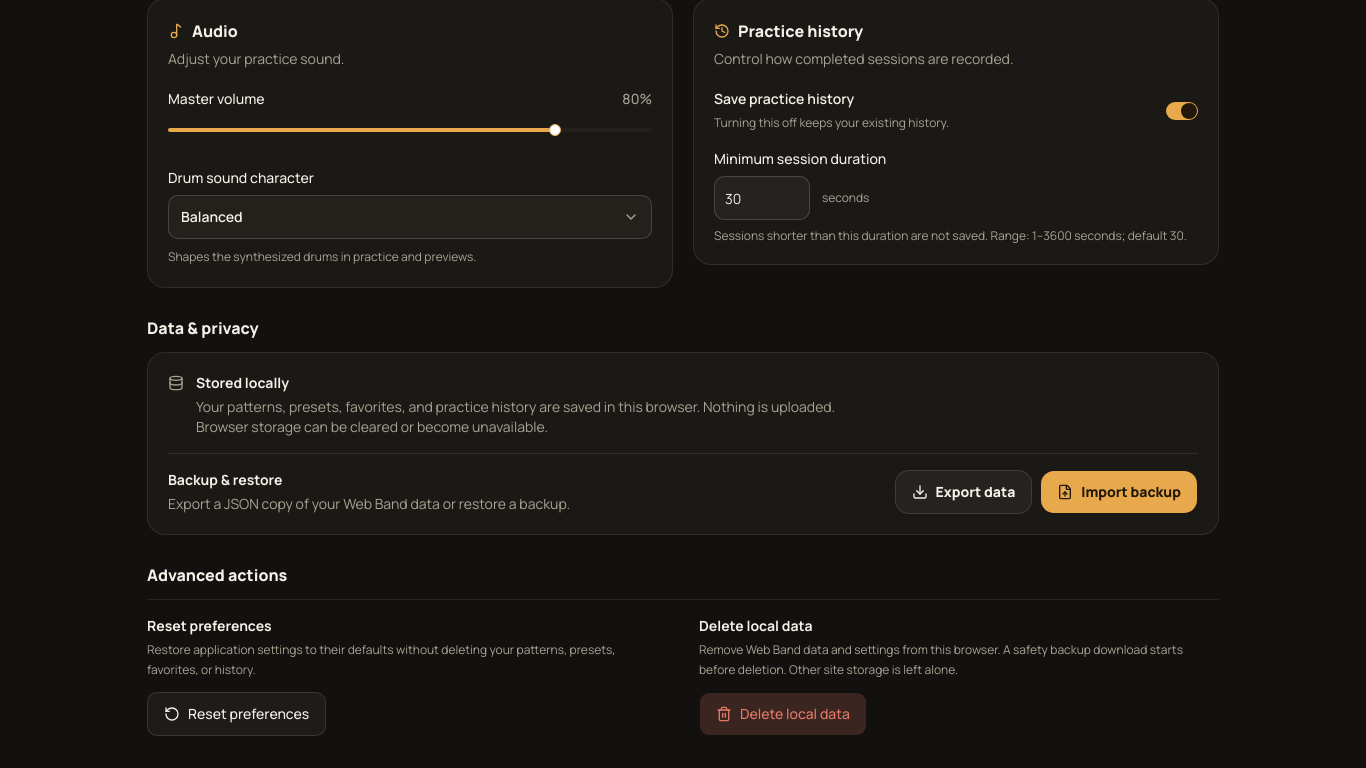
Test: settings screen › resets settings without destructive confirmation
(page scrolled)
Step 1. Click the button "Reset preferences" → (237, 714), box [147, 692, 326, 736]
(page scrolled)
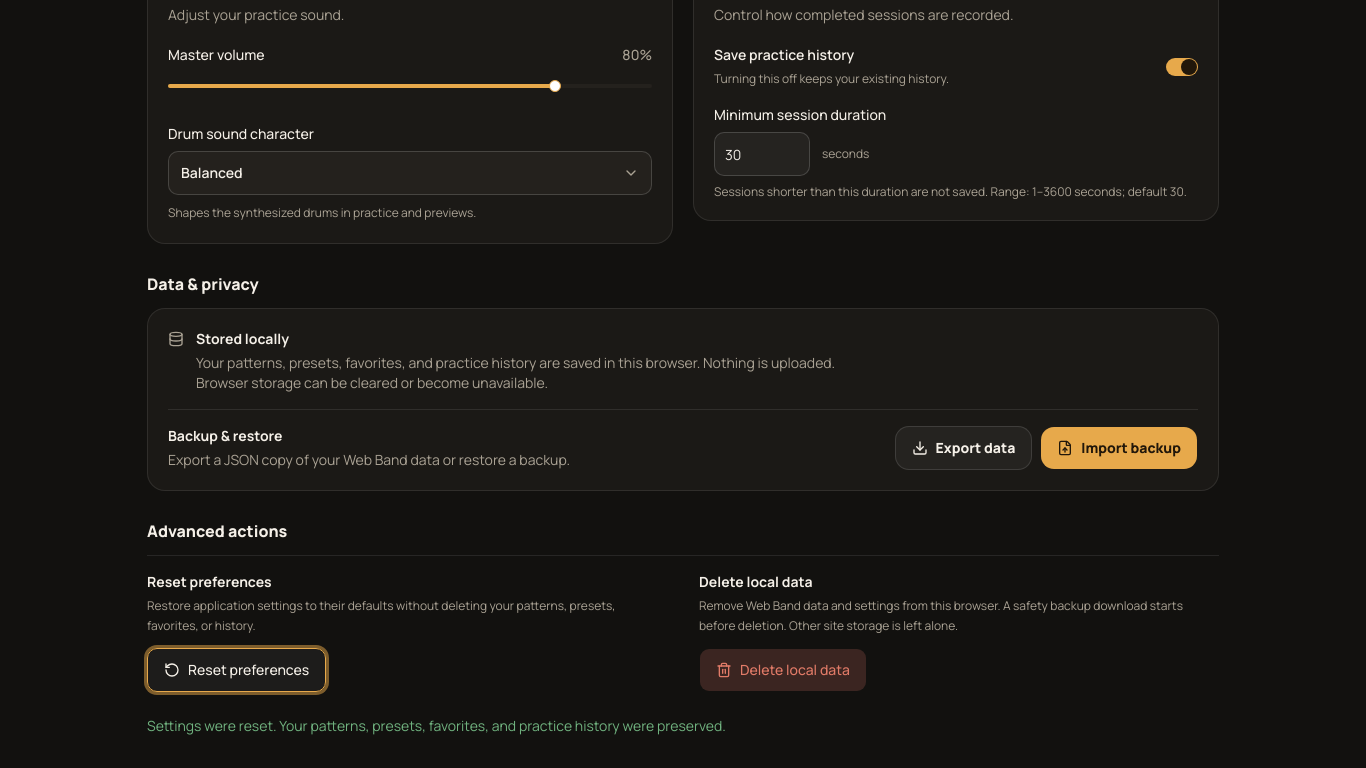
Expected: the text "patterns, presets, favorites, and practice history were preserved" is shown, [147, 716, 726, 735]
